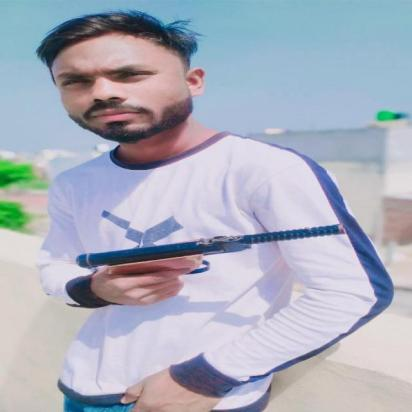Gun: (73, 220, 374, 306)
